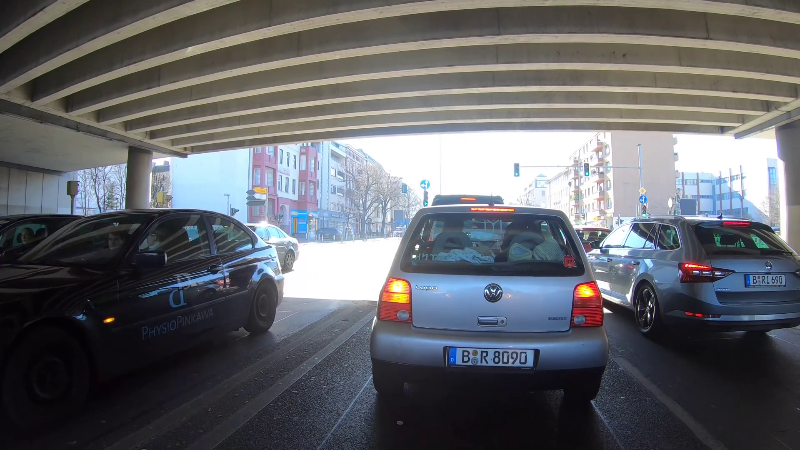Plate: (445, 345, 538, 370), (744, 270, 789, 287)
